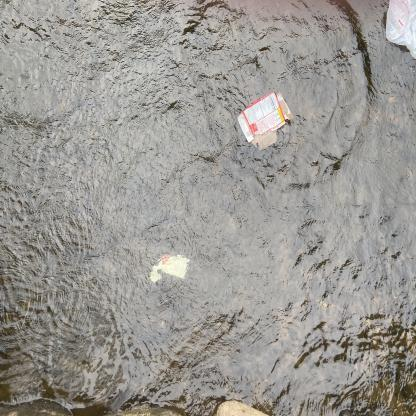trash: (234, 88, 297, 156), (381, 0, 415, 67), (148, 251, 193, 290)
